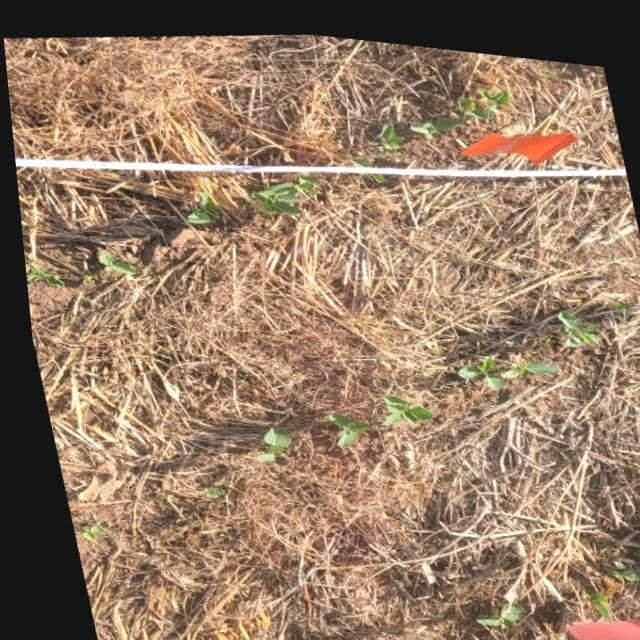soy_plant: (408, 77, 506, 128), (451, 346, 551, 377), (249, 167, 312, 206), (375, 386, 425, 417), (321, 405, 364, 438), (552, 298, 592, 332), (465, 592, 510, 618), (249, 420, 281, 456), (183, 187, 215, 218), (20, 262, 58, 285), (93, 249, 129, 271), (375, 113, 402, 142), (571, 578, 598, 604), (65, 518, 97, 539), (596, 551, 632, 567), (455, 625, 485, 640), (190, 482, 214, 492)
